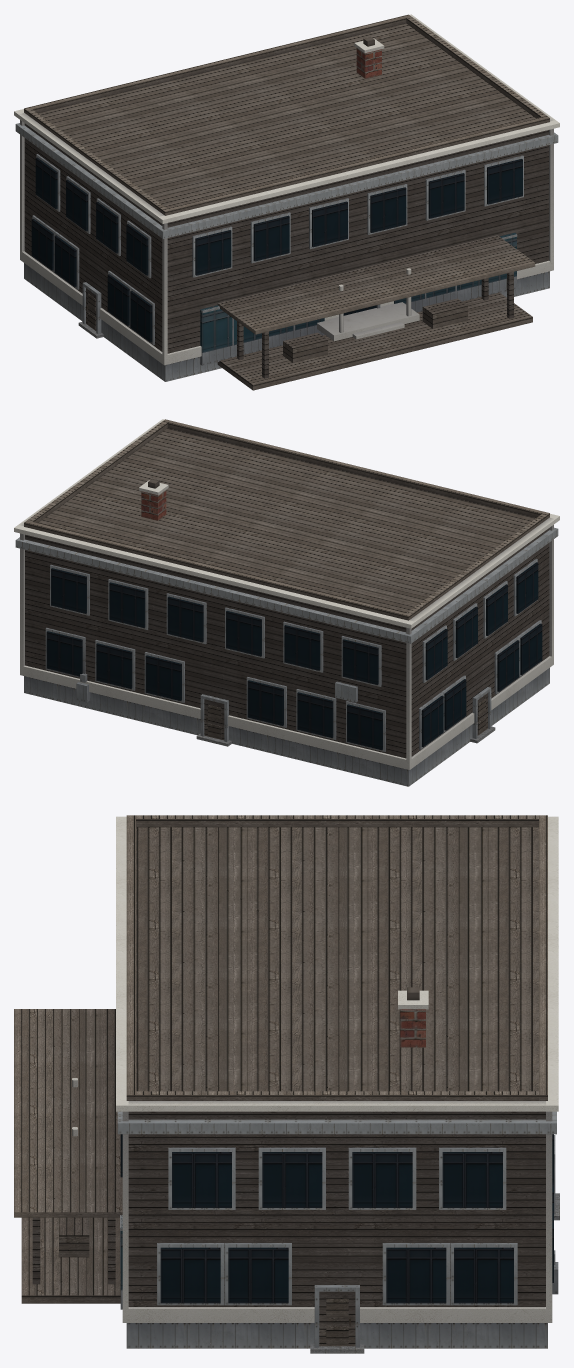
Rendered from lakeshore-grill_lod0.gltf.
3 renders of one model, top to bottom at view 1: azimuth 30°, elevation 25°; view 2: azimuth 150°, elevation 25°; view 3: azimuth 270°, elevation 25°, orthographic. The views are drawn at different scales.
Visible parts, largest first — view 1: lakeshore-grill_upper, lakeshore-grill_fen_07-glass-curtain-blue_2_t, lakeshore-grill__v4_stone_detail, lakeshore-grill__pergola_top, lakeshore-grill__deck, lakeshore-grill_fen_14-steel-panel_0, lakeshore-grill__cornice, lakeshore-grill__parapet_back, lakeshore-grill_base, lakeshore-grill__parapet_front, lakeshore-grill_fen_07-glass-curtain-blue_1, lakeshore-grill__parapet_right (+4 smaller); view 2: lakeshore-grill_upper, lakeshore-grill_fen_07-glass-curtain-blue_2_t, lakeshore-grill__v4_stone_detail, lakeshore-grill_fen_14-steel-panel_0, lakeshore-grill_base, lakeshore-grill__cornice, lakeshore-grill__parapet_front, lakeshore-grill__parapet_back, lakeshore-grill__parapet_right, lakeshore-grill__parapet_left, lakeshore-grill__v4_brick_detail, lakeshore-grill_fen_18-timber-siding_5 (+1 smaller); view 3: lakeshore-grill_upper, lakeshore-grill_fen_07-glass-curtain-blue_2_t, lakeshore-grill__pergola_top, lakeshore-grill__v4_stone_detail, lakeshore-grill_base, lakeshore-grill_fen_14-steel-panel_0, lakeshore-grill__cornice, lakeshore-grill__deck, lakeshore-grill__parapet_left, lakeshore-grill__parapet_right, lakeshore-grill__parapet_front, lakeshore-grill__parapet_back (+4 smaller).
Part boxes in pixels (x1,y1,x2,y2): lakeshore-grill_upper: [24, 23, 548, 353]; lakeshore-grill_fen_07-glass-curtain-blue_2_t: [31, 157, 522, 342]; lakeshore-grill__v4_stone_detail: [14, 14, 559, 365]; lakeshore-grill__pergola_top: [217, 235, 535, 334]; lakeshore-grill__deck: [217, 292, 532, 390]; lakeshore-grill_fen_14-steel-panel_0: [32, 154, 523, 365]; lakeshore-grill__cornice: [15, 123, 558, 238]; lakeshore-grill__parapet_back: [24, 14, 411, 114]; lakeshore-grill_base: [24, 263, 549, 381]; lakeshore-grill__parapet_front: [162, 116, 549, 215]; lakeshore-grill_fen_07-glass-curtain-blue_1: [200, 233, 516, 352]; lakeshore-grill__parapet_right: [406, 17, 546, 118]; lakeshore-grill_upper: [25, 428, 549, 758]; lakeshore-grill_fen_07-glass-curtain-blue_2_t: [46, 562, 542, 750]; lakeshore-grill__v4_stone_detail: [14, 419, 559, 769]; lakeshore-grill_fen_14-steel-panel_0: [45, 558, 541, 751]; lakeshore-grill_base: [24, 668, 549, 786]; lakeshore-grill__cornice: [15, 527, 558, 643]; lakeshore-grill__parapet_front: [162, 419, 549, 518]; lakeshore-grill__parapet_back: [24, 520, 411, 620]; lakeshore-grill__parapet_right: [27, 421, 167, 522]; lakeshore-grill__parapet_left: [407, 514, 546, 617]; lakeshore-grill__v4_brick_detail: [141, 490, 166, 520]; lakeshore-grill_fen_18-timber-siding_5: [204, 693, 487, 740]; lakeshore-grill_upper: [128, 827, 545, 1306]; lakeshore-grill_fen_07-glass-curtain-blue_2_t: [120, 1134, 553, 1303]; lakeshore-grill__pergola_top: [14, 1009, 122, 1217]; lakeshore-grill__v4_stone_detail: [72, 816, 558, 1322]; lakeshore-grill_base: [126, 1323, 547, 1348]; lakeshore-grill_fen_14-steel-panel_0: [120, 1135, 558, 1347]; lakeshore-grill__cornice: [117, 1111, 556, 1134]; lakeshore-grill__deck: [21, 1217, 120, 1303]; lakeshore-grill__parapet_left: [136, 815, 538, 827]; lakeshore-grill__parapet_right: [136, 1091, 538, 1100]; lakeshore-grill__parapet_front: [126, 815, 135, 1100]; lakeshore-grill__parapet_back: [539, 815, 547, 1100].
Bounding box in the file's own units: 22.8 × 10.89 × 18.15.
